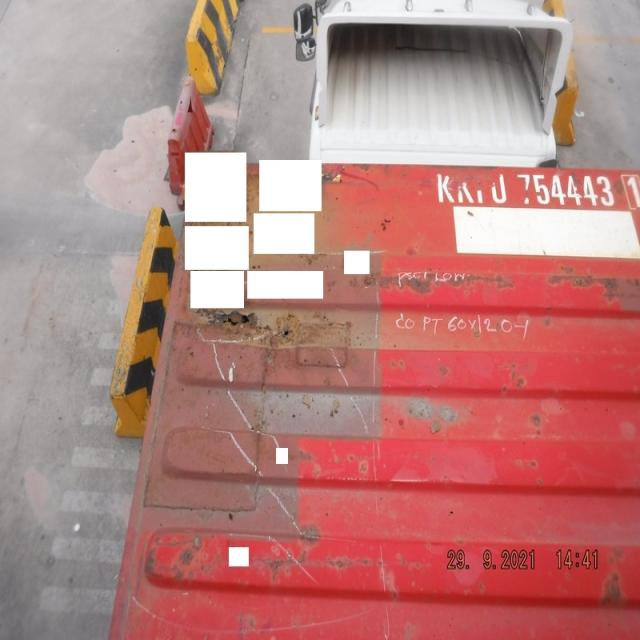hole: (198, 307, 269, 339), (271, 313, 305, 352)
